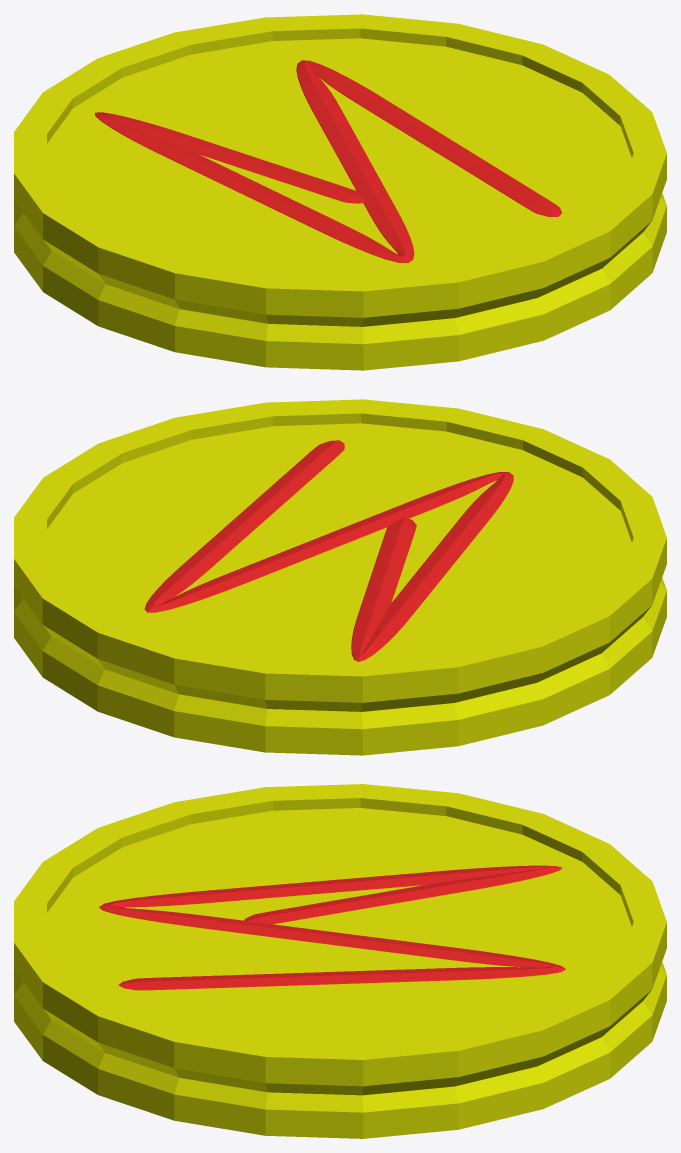
The model's file is coin-2-1.fbx.
The picture shows the model from 3 angles, top to bottom: view 1: azimuth 30°, elevation 25°; view 2: azimuth 150°, elevation 25°; view 3: azimuth 270°, elevation 25°; orthographic projection.
Parts seen in each view (by area): view 1: Plane; view 2: Plane; view 3: Plane.
Part boxes in pixels (x1,y1,x2,y2): Plane: (14, 14, 666, 370); Plane: (14, 399, 666, 755); Plane: (14, 784, 666, 1138).
Size of the model in its own units: 3 by 0.4 by 3.
